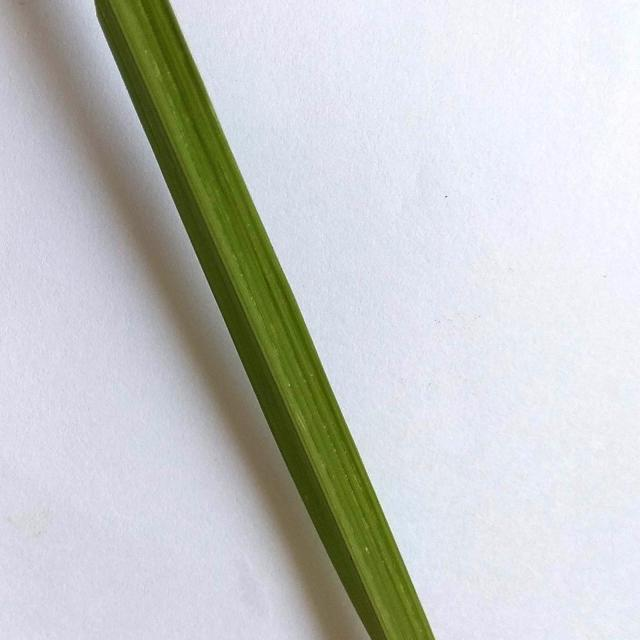healthy: (84, 0, 486, 640)
